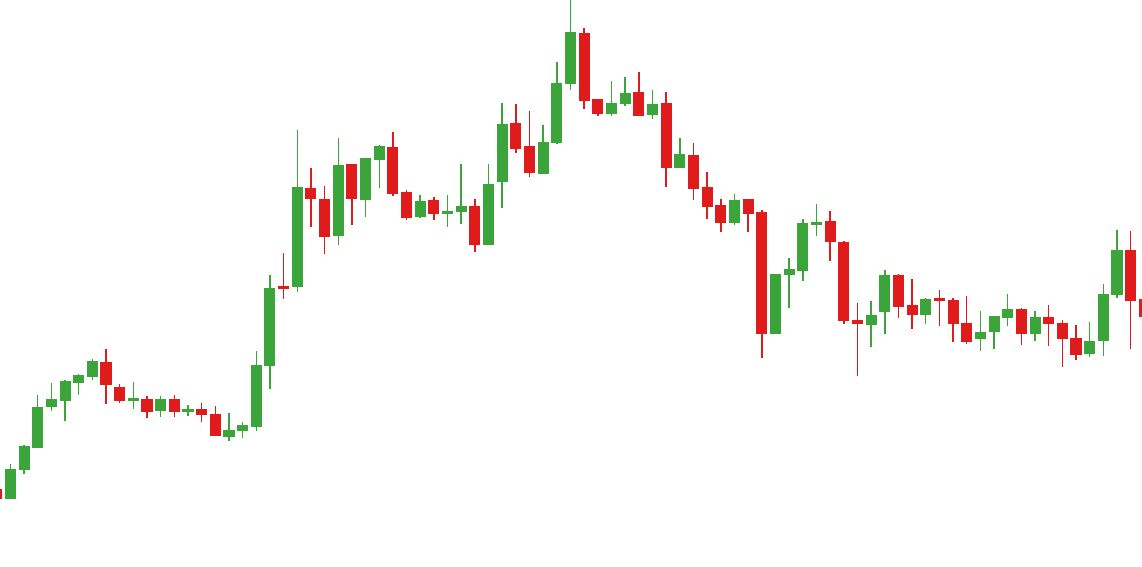buy: (755, 240, 877, 377)
